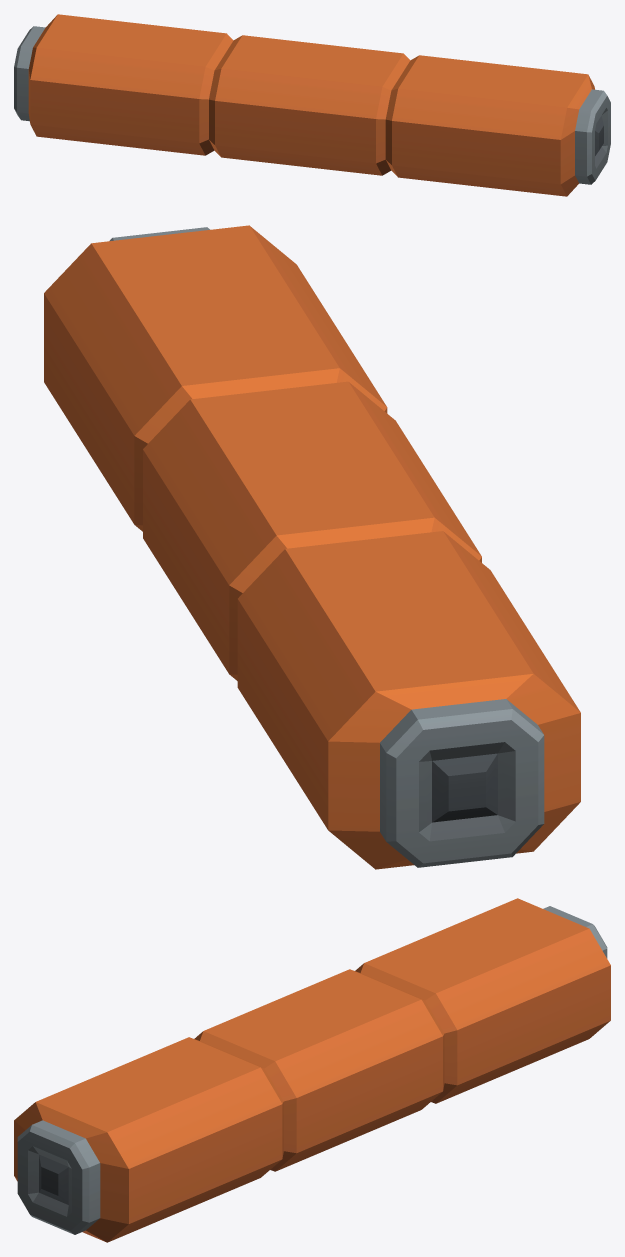
Rendered from kaykit-space-base-bits-tunnel-diagonal-long-b.glb.
3 views of the same model, one above another, from view 1: azimuth 30°, elevation 25°; view 2: azimuth 150°, elevation 25°; view 3: azimuth 270°, elevation 25° (orthographic). The views are drawn at different scales.
Visible parts, largest first — view 1: tunnel_diagonal_long_B; view 2: tunnel_diagonal_long_B; view 3: tunnel_diagonal_long_B.
Part boxes in pixels (left/top/right/bottom): tunnel_diagonal_long_B: left=14, top=14, right=610, bottom=196; tunnel_diagonal_long_B: left=44, top=225, right=580, bottom=869; tunnel_diagonal_long_B: left=14, top=898, right=610, bottom=1242.
Bounding box in the file's own units: 2.94 × 0.5999 × 2.94.
Materials: 1 (1 with a texture image).
